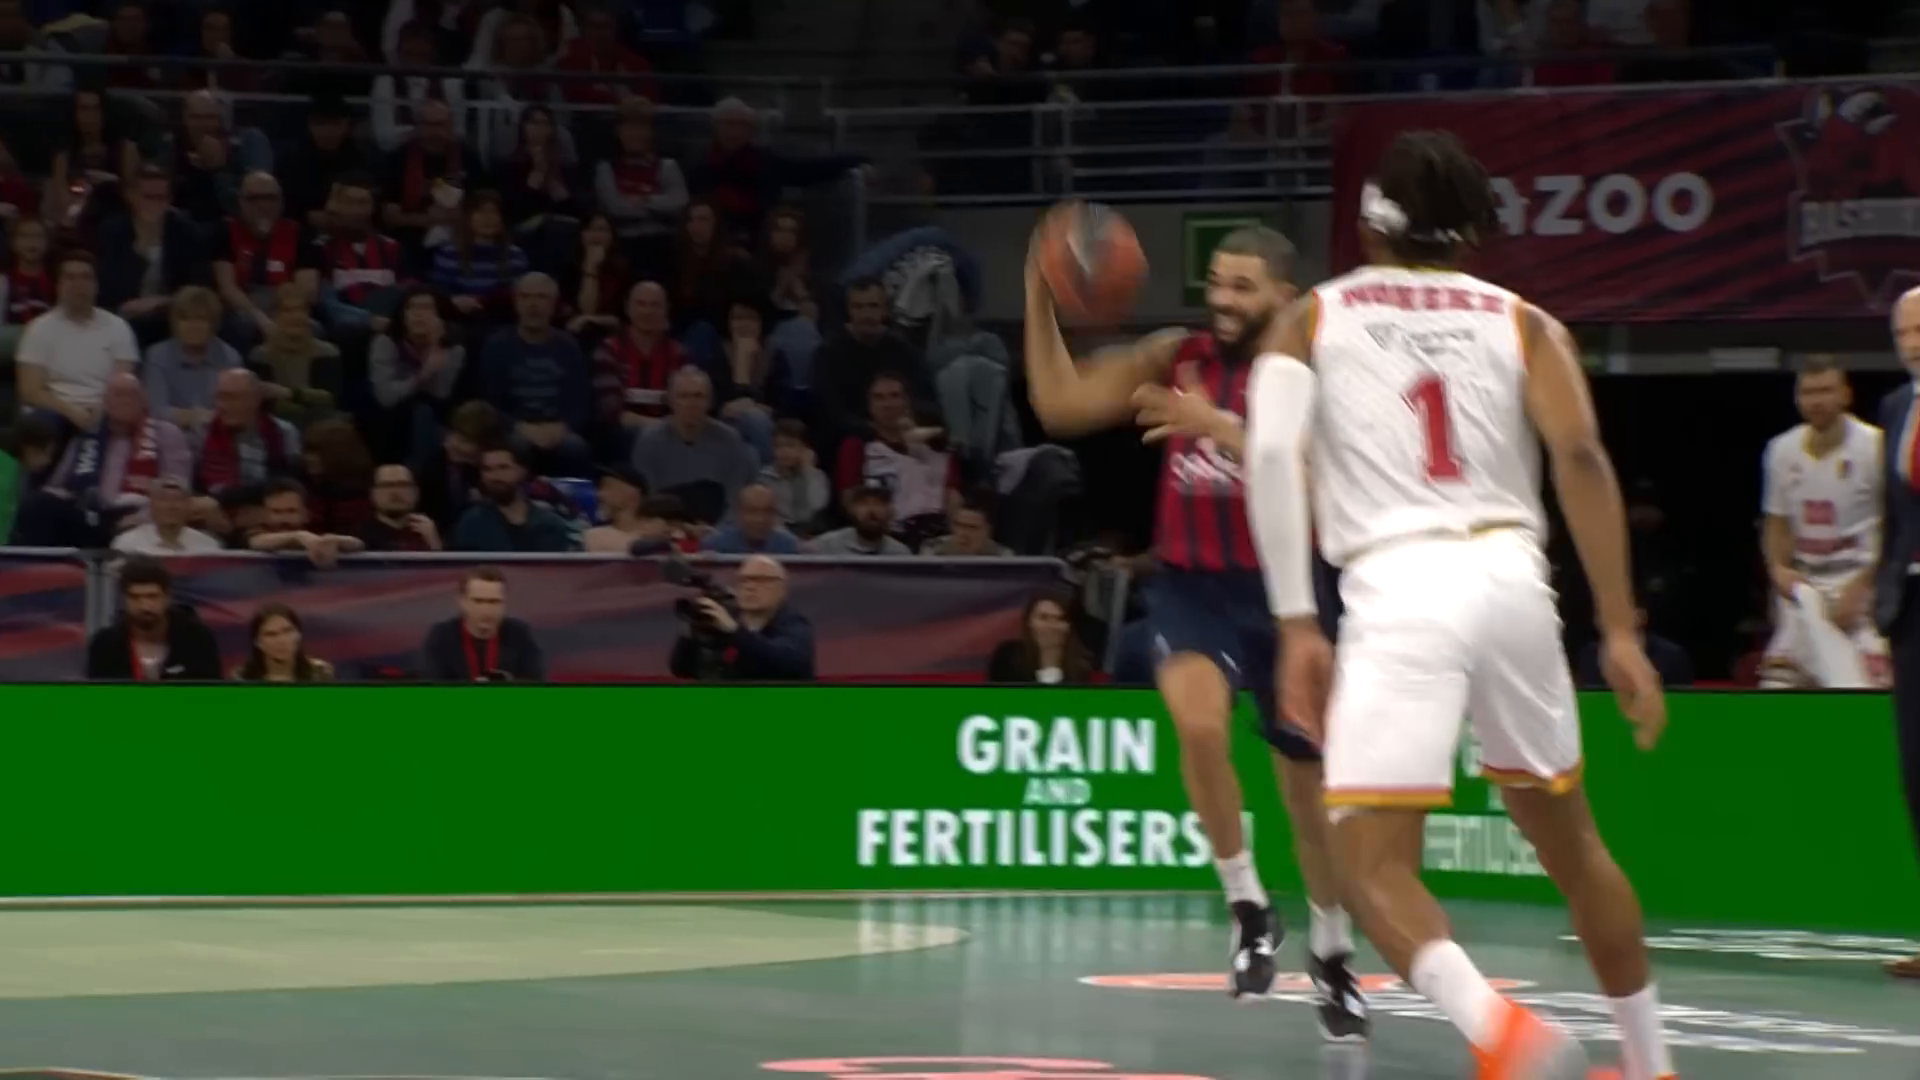ball: (1018, 199, 1162, 334)
